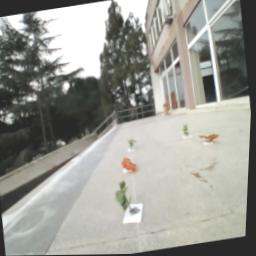herb: (114, 180, 138, 217), (182, 123, 192, 139), (128, 138, 139, 151)
wild: (121, 156, 141, 176), (199, 131, 222, 146)
